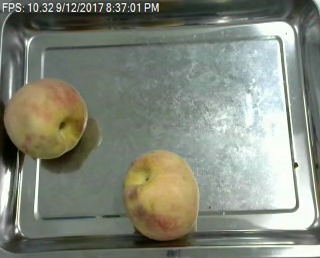Peach: (3, 77, 88, 160), (123, 149, 199, 240)
